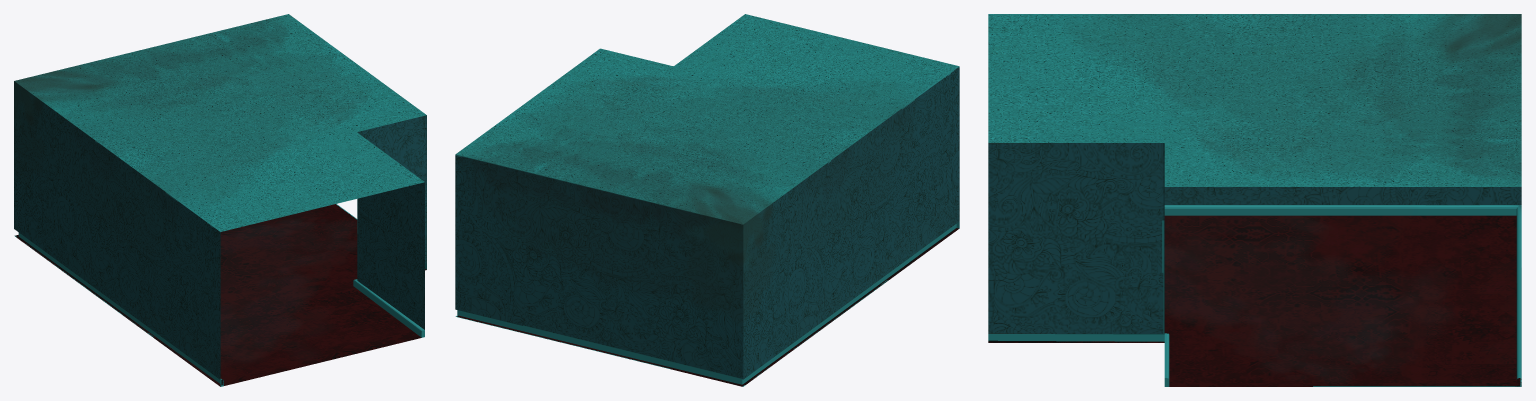
Rendered from koridorSolUstKose.fbx.
3 renders of one model, left to right at view 1: azimuth 30°, elevation 25°; view 2: azimuth 150°, elevation 25°; view 3: azimuth 270°, elevation 25°, orthographic. The views are drawn at different scales.
Visible parts, largest first — view 1: solKoridorUst; view 2: solKoridorUst; view 3: solKoridorUst.
Boxes of the visible parts, x1,y1,x2,y2 form: solKoridorUst: (14,14,426,386); solKoridorUst: (455,14,959,386); solKoridorUst: (988,14,1521,386).
Size of the model in its own units: 835 by 450 by 1088.
